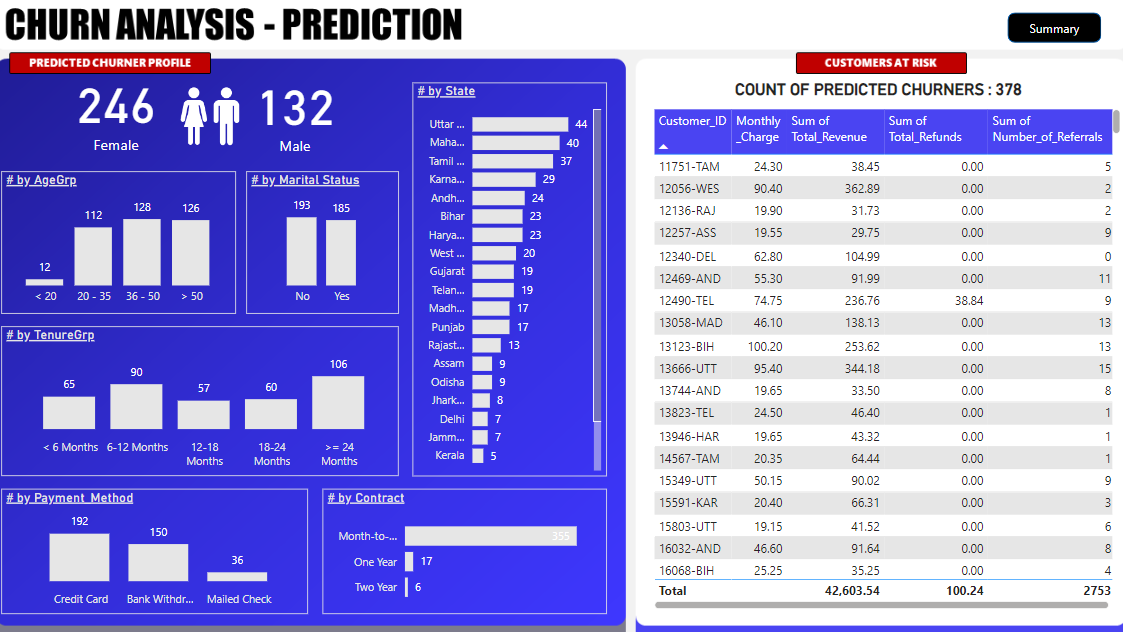

What the dashboard file says about the page in this screenshot:
{"tool":"powerbi","page":{"name":"Churn Prediction","canvas":[1280,720],"ordinal":1},"visuals":[{"type":"tableEx","fields":{"Values":["TelecomPredictions.Customer_ID","TelecomPredictions.Monthly_Charge","Sum(TelecomPredictions.Total_Revenue)","Sum(TelecomPredictions.Total_Refunds)","Sum(TelecomPredictions.Number_of_Referrals)"]},"box":[737.7,127.5,529,565.2],"z":0},{"type":"card","fields":{"Values":["tbl_measures.Title Predicted Churners"]},"box":[813,84.1,360.9,52.2],"z":1000},{"type":"card","fields":{"Values":["tbl_measures.Count Predicted Churner"]},"box":[91.7,80.6,108.3,104.2],"z":2000},{"type":"card","fields":{"Values":["tbl_measures.Count Predicted Churner"]},"box":[290.3,85.1,108.7,100],"z":3000},{"type":"clusteredColumnChart","fields":{"Category":["mapping_AgeGrp.AgeGrp"],"Y":["CountNonNull(TelecomPredictions.Customer_ID)"]},"box":[18.1,201.4,261.1,158.3],"z":4000},{"type":"clusteredColumnChart","fields":{"Category":["TelecomPredictions.Married"],"Y":["CountNonNull(TelecomPredictions.Customer_ID)"]},"box":[290.3,201.4,169.4,158.3],"z":5000},{"type":"clusteredColumnChart","fields":{"Y":["CountNonNull(TelecomPredictions.Customer_ID)"],"Category":["Mapping_TenureGrp.TenureGrp"]},"box":[18.1,373.6,441.7,166.7],"z":6000},{"type":"clusteredColumnChart","fields":{"Y":["CountNonNull(TelecomPredictions.Customer_ID)"],"Category":["TelecomPredictions.Payment_Method"]},"box":[17.4,553.6,340.6,139.1],"z":7000},{"type":"clusteredBarChart","fields":{"Category":["TelecomPredictions.Contract"],"Y":["CountNonNull(TelecomPredictions.Customer_ID)"]},"box":[375.4,553.6,315.9,139.1],"z":8000},{"type":"clusteredBarChart","fields":{"Category":["TelecomPredictions.State"],"Y":["CountNonNull(TelecomPredictions.Customer_ID)"]},"box":[475.4,102.9,215.9,437.7],"z":9000},{"type":"image","box":[204.2,91.7,91.7,95.8],"z":9001},{"type":"shape","box":[1136.4,25,104.3,33.6],"z":9002}]}

Visuals, with their boxes in screenshot pixels (x1, y1, x2, y2), scaled from the page's 1280x720 canvas onto the 1123x632 screenshot:
tableEx - TelecomPredictions.Customer_ID x TelecomPredictions.Monthly_Charge: bbox(647, 112, 1111, 608)
card - tbl_measures.Title Predicted Churners: bbox(713, 74, 1030, 120)
card - tbl_measures.Count Predicted Churner: bbox(80, 71, 175, 162)
card - tbl_measures.Count Predicted Churner: bbox(255, 75, 350, 162)
clusteredColumnChart - mapping_AgeGrp.AgeGrp x CountNonNull(TelecomPredictions.Customer_ID): bbox(16, 177, 245, 316)
clusteredColumnChart - TelecomPredictions.Married x CountNonNull(TelecomPredictions.Customer_ID): bbox(255, 177, 403, 316)
clusteredColumnChart - CountNonNull(TelecomPredictions.Customer_ID) x Mapping_TenureGrp.TenureGrp: bbox(16, 328, 403, 474)
clusteredColumnChart - CountNonNull(TelecomPredictions.Customer_ID) x TelecomPredictions.Payment_Method: bbox(15, 486, 314, 608)
clusteredBarChart - TelecomPredictions.Contract x CountNonNull(TelecomPredictions.Customer_ID): bbox(329, 486, 607, 608)
clusteredBarChart - TelecomPredictions.State x CountNonNull(TelecomPredictions.Customer_ID): bbox(417, 90, 607, 475)
image: bbox(179, 80, 260, 165)
shape: bbox(997, 22, 1089, 51)
